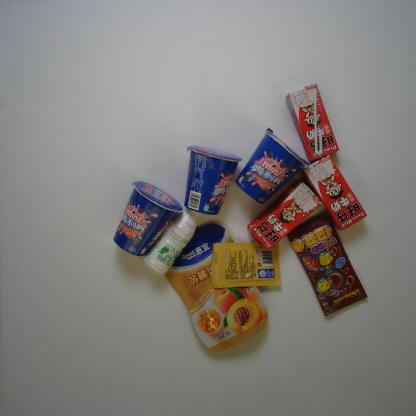Candy: (284, 209, 368, 319)
Dessert: (233, 127, 310, 204), (112, 181, 183, 258), (182, 144, 242, 214)
Dried Fruit: (161, 221, 272, 353)
Milk: (247, 182, 322, 252), (304, 156, 368, 231), (284, 83, 340, 161), (145, 204, 203, 277)
Seasoner: (208, 241, 281, 290)
